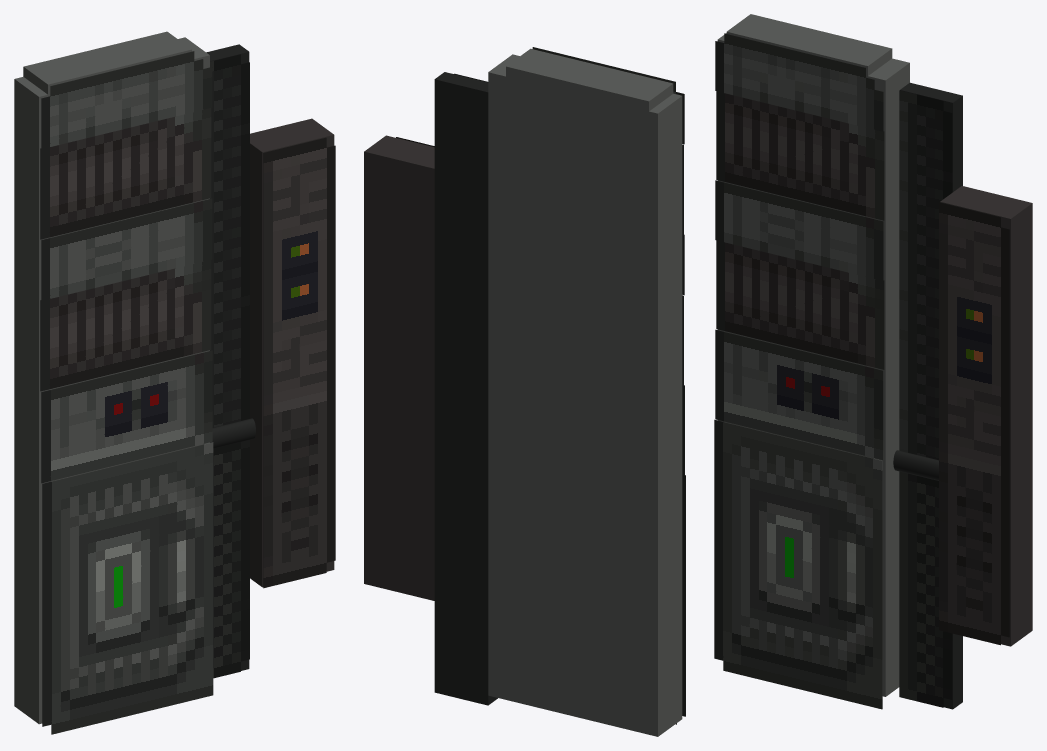
File: CMU3DRMCMachinePropBig11Flipped.glb
3 views of the same model, side by side, from view 1: azimuth 30°, elevation 25°; view 2: azimuth 150°, elevation 25°; view 3: azimuth 330°, elevation 25° (orthographic).
Parts seen in each view (by area): view 1: round lower control artwork, separate side control artwork, rear spine source pixels, main cast cabinet, paired status sockets, upper recessed grille, second recessed grille, middle cast divider, top cast cap, separate narrow control pod, narrow upper cap, pod horizontal connector (+1 smaller); view 2: main cast cabinet, dark rear service spine, separate narrow control pod, narrow upper cap, round lower control artwork, top cast cap; view 3: round lower control artwork, separate side control artwork, rear spine source pixels, paired status sockets, upper recessed grille, second recessed grille, main cast cabinet, separate narrow control pod, middle cast divider, top cast cap, narrow upper cap, dark rear service spine (+1 smaller).
Part boxes in pixels (x1,y1,x2,y2): round lower control artwork: (42, 442, 213, 734); separate side control artwork: (263, 137, 335, 588); rear spine source pixels: (210, 54, 249, 678); main cast cabinet: (14, 37, 209, 724); paired status sockets: (41, 350, 212, 483); upper recessed grille: (40, 108, 211, 239); second recessed grille: (40, 260, 211, 391); middle cast divider: (41, 198, 212, 300); top cast cap: (41, 51, 212, 149); separate narrow control pod: (250, 118, 334, 587); narrow upper cap: (23, 31, 191, 94); pod horizontal connector: (210, 418, 255, 448); main cast cabinet: (488, 54, 682, 736); dark rear service spine: (434, 72, 497, 705); separate narrow control pod: (364, 135, 434, 600); narrow upper cap: (506, 48, 673, 111); round lower control artwork: (676, 475, 685, 724); top cast cap: (532, 47, 684, 144); round lower control artwork: (714, 419, 882, 709); separate side control artwork: (939, 202, 1009, 645); rear spine source pixels: (899, 90, 952, 707); paired status sockets: (715, 329, 883, 459); upper recessed grille: (716, 91, 884, 220); second recessed grille: (716, 240, 884, 369); main cast cabinet: (717, 33, 909, 696); separate narrow control pod: (940, 186, 1032, 646); middle cast divider: (715, 180, 883, 280); top cast cap: (715, 33, 883, 131); narrow upper cap: (726, 14, 892, 75); dark rear service spine: (900, 82, 962, 709).
Size of what is drawn, in the model's own units: 0.9591 by 2 by 0.1571.
12 materials, 8 textured.
